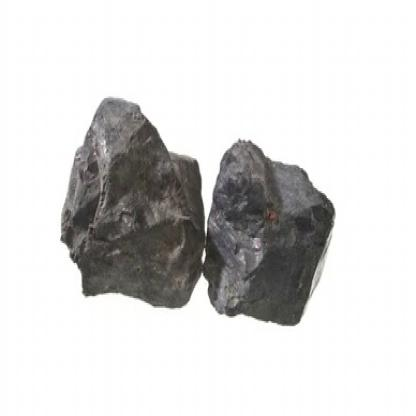Sedimentary_coal: (53, 80, 202, 329), (205, 130, 348, 344)
